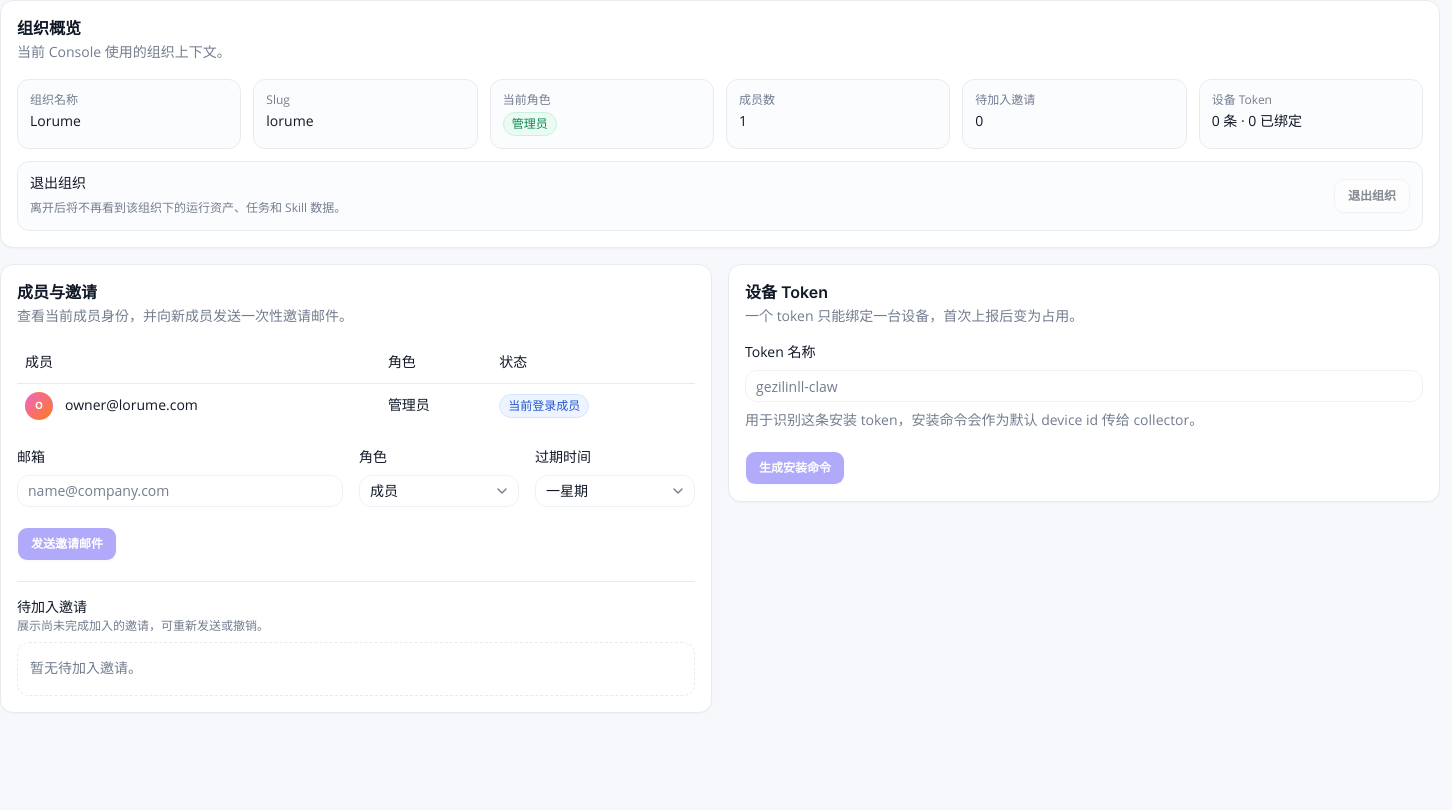
OrganizationSettingsPage › creates a device token and one-line install command for organization admins
Step 1. Type "fixture-mac" into the field labelled "Token 名称" → (1084, 386), box 745,370 -> 1423,402
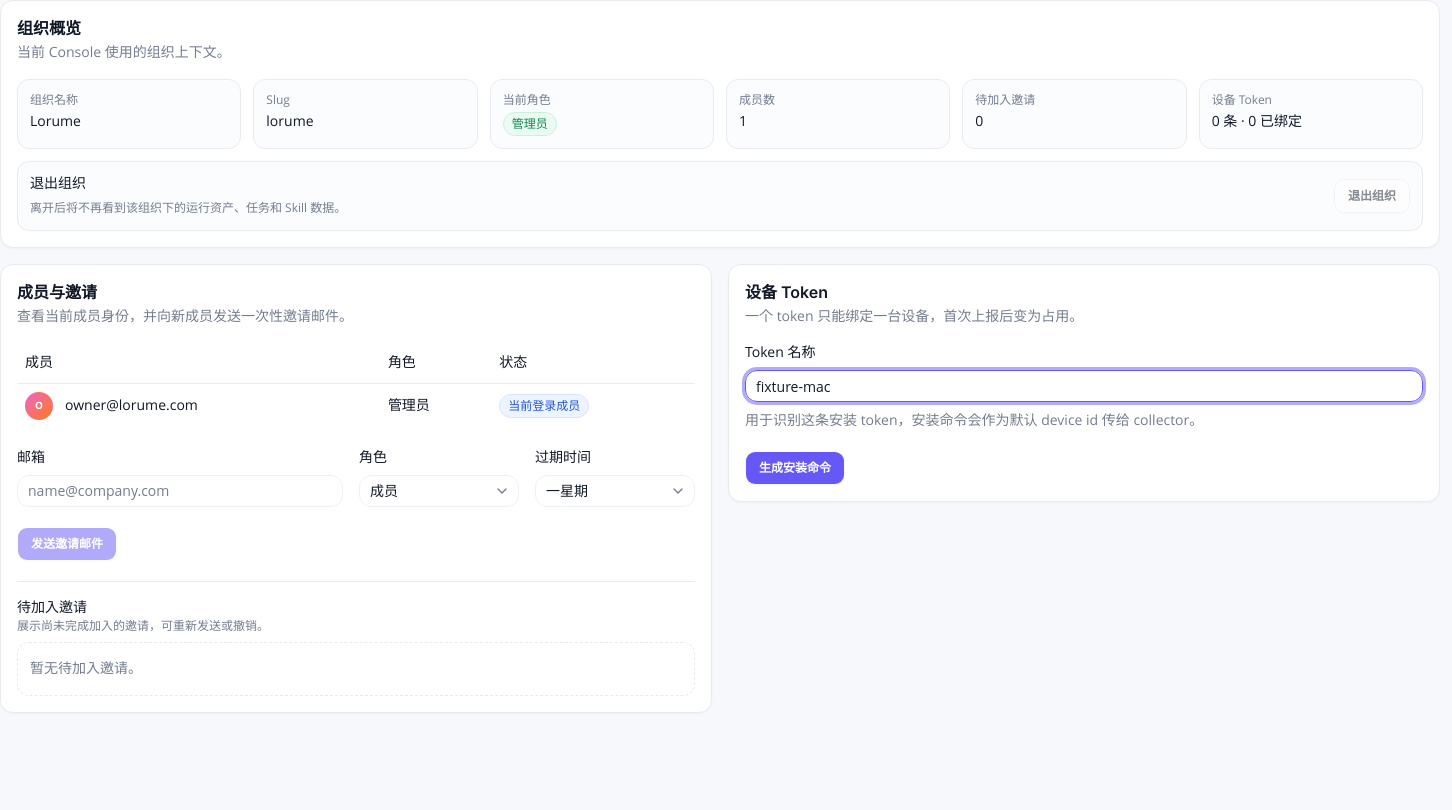
Step 2. Click the button "生成安装命令" → (795, 468), box 745,451 -> 845,485
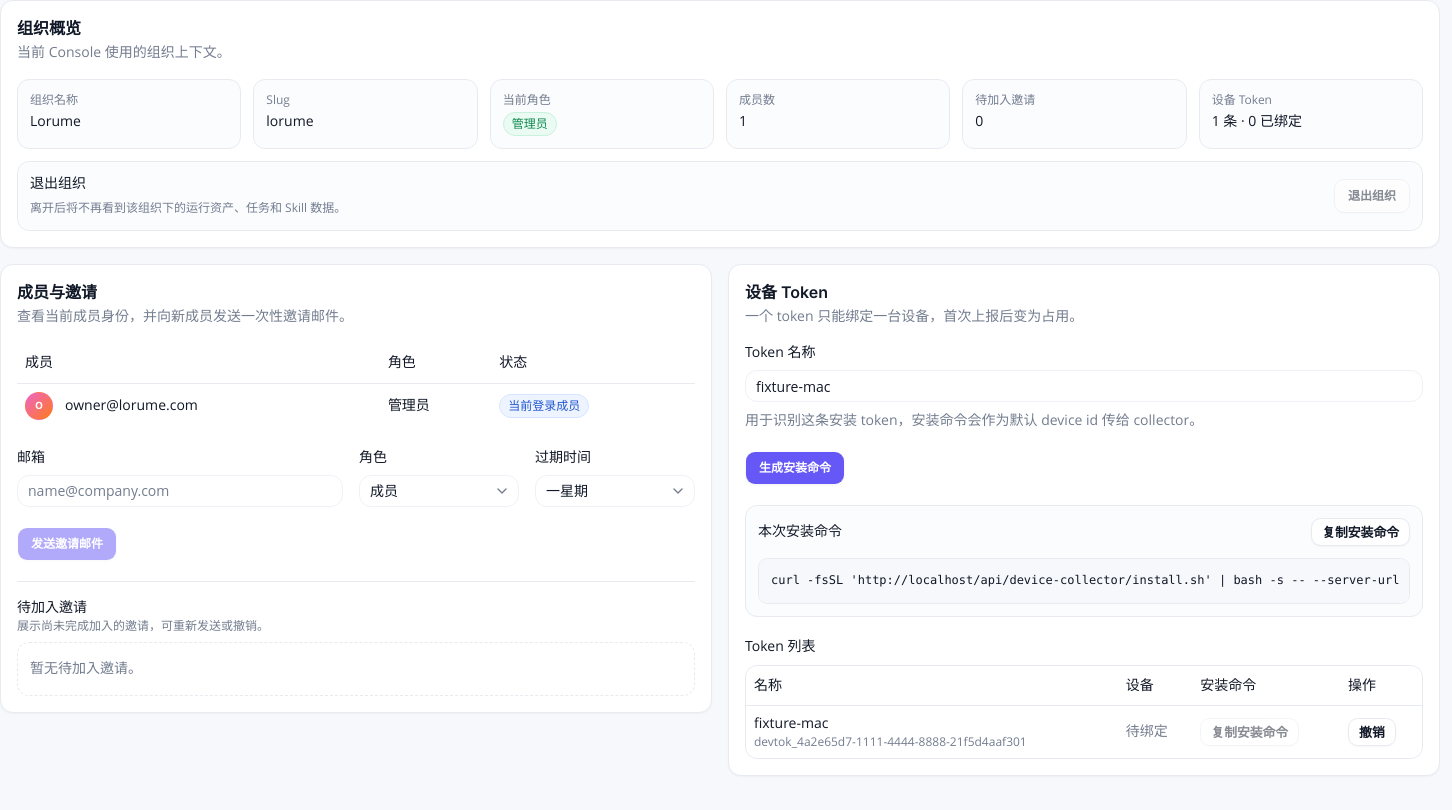
Check: the table named "设备 Token 列表" is shown, box 746,666 -> 1422,758
Check: the text "待绑定" is shown, box 1118,706 -> 1192,758
Check: the text "devtok_4a2e65d7-1111-4444-8888-21f5d4aaf301" is shown, box 754,733 -> 1027,750
